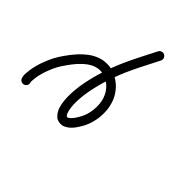t: (94, 46, 170, 91)
